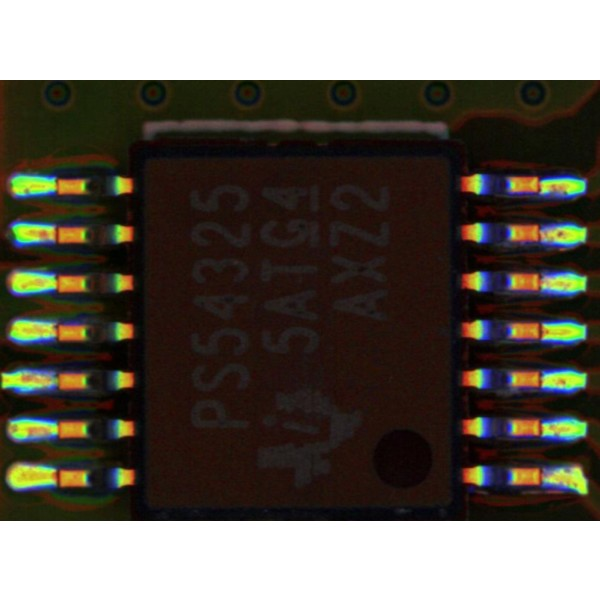Bad_podu: (40, 229, 71, 242), (41, 327, 73, 339), (43, 471, 70, 483), (528, 327, 556, 338)
